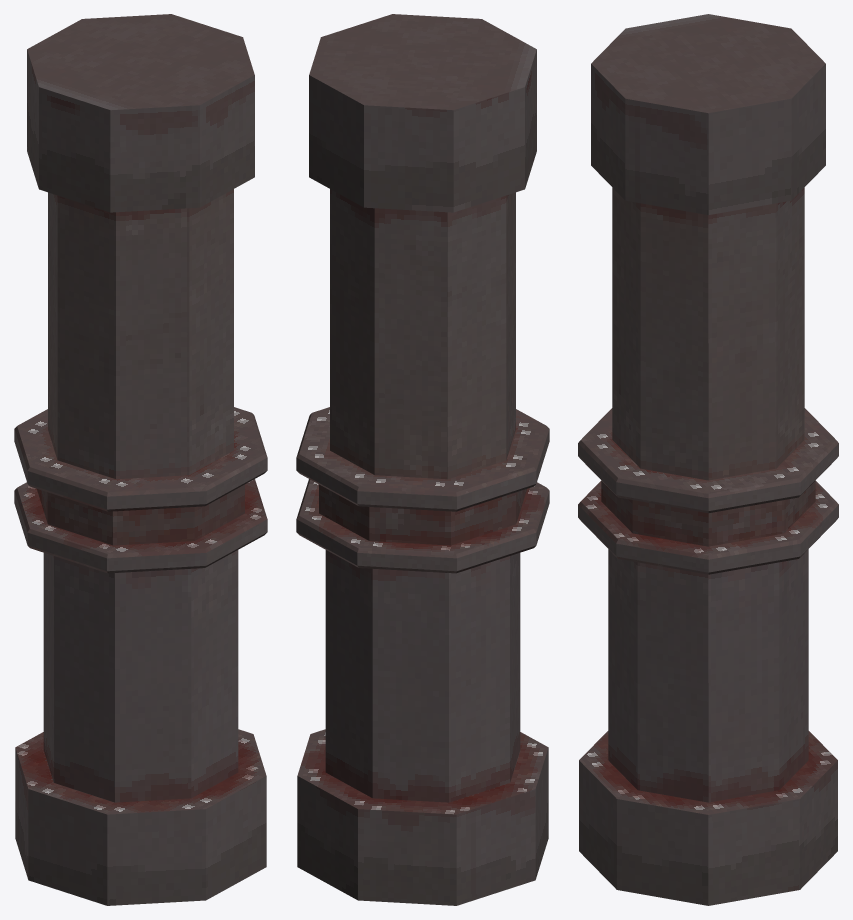
The picture shows the model from 3 angles, left to right: view 1: azimuth 30°, elevation 25°; view 2: azimuth 150°, elevation 25°; view 3: azimuth 270°, elevation 25°; orthographic projection.
Visible parts, largest first — view 1: Cylinder; view 2: Cylinder; view 3: Cylinder.
Part boxes in pixels (left/top/right/bottom): Cylinder: left=14, top=14, right=267, bottom=905; Cylinder: left=296, top=14, right=549, bottom=905; Cylinder: left=578, top=14, right=838, bottom=905.
Size of the model in its own units: 0.9751 by 3.25 by 0.9751.
Materials: 1 (1 with a texture image).
